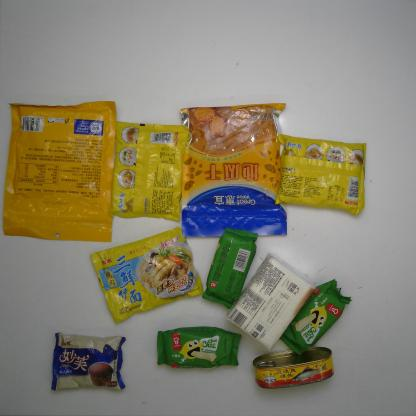Canned Food: (250, 344, 338, 392)
Dessert: (279, 275, 358, 360), (44, 330, 128, 395), (200, 226, 258, 310), (153, 322, 245, 371)
Dried Fruit: (2, 98, 118, 245), (178, 101, 289, 240)
Instant Noodles: (89, 223, 205, 326), (108, 118, 190, 223), (271, 132, 369, 216)
Tissue: (225, 250, 321, 352)
